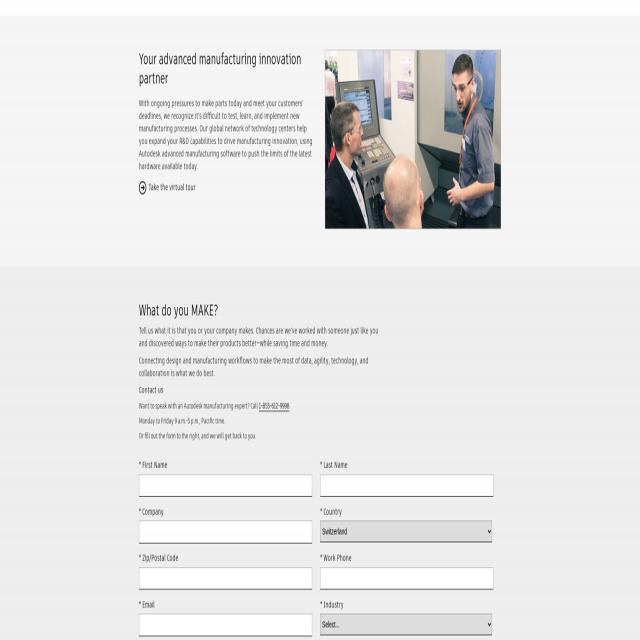button: (325, 50, 501, 229)
field: (320, 474, 494, 497), (320, 567, 494, 590), (139, 474, 312, 497), (139, 567, 312, 590), (139, 521, 312, 543), (140, 614, 312, 636), (320, 521, 492, 542), (320, 614, 492, 635)
